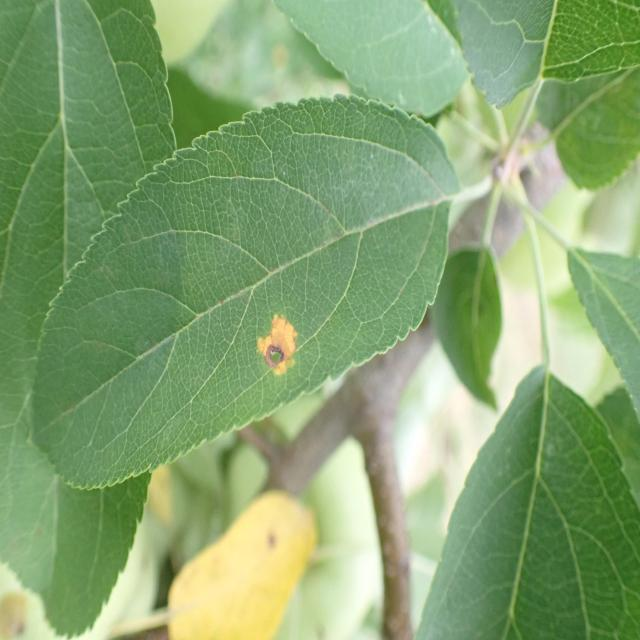Rust: (258, 302, 306, 380)
